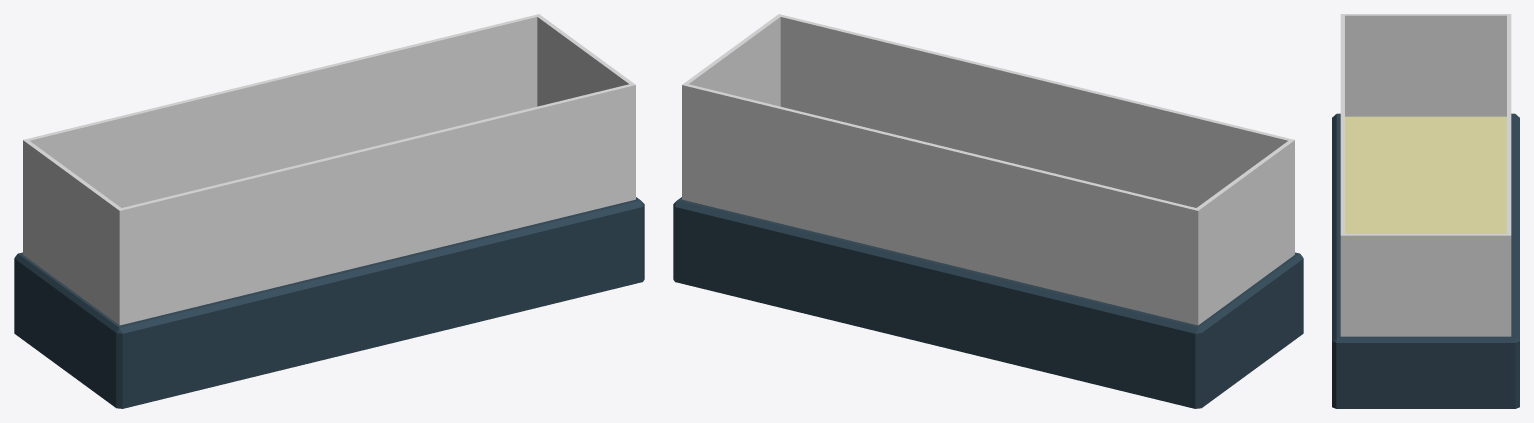
Rendered from tankLONGfinal.fbx.
3 renders of one model, left to right at view 1: azimuth 30°, elevation 25°; view 2: azimuth 150°, elevation 25°; view 3: azimuth 270°, elevation 25°, orthographic. The views are drawn at different scales.
Parts seen in each view (by area): view 1: Tank; view 2: Tank; view 3: Tank.
Part boxes in pixels (x1=…): Tank: x1=14, y1=14, x2=644, y2=408; Tank: x1=673, y1=14, x2=1303, y2=408; Tank: x1=1332, y1=14, x2=1519, y2=408.
Bounding box in the file's own units: 1628 × 571 × 569.
